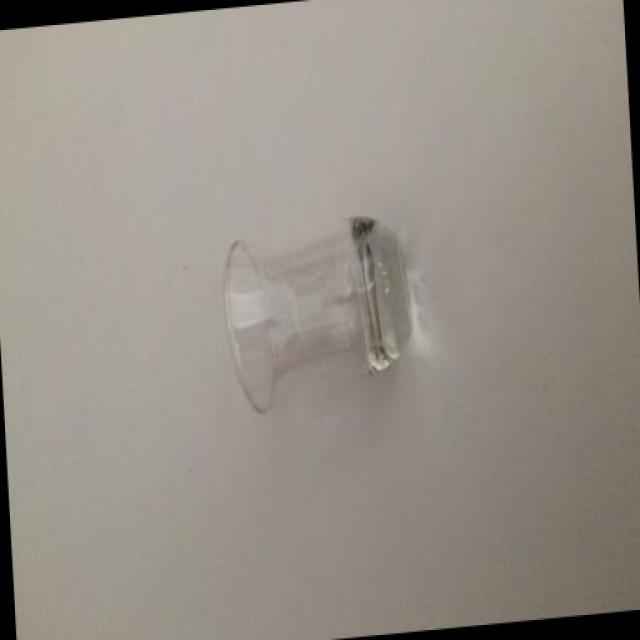vidrio: (201, 179, 427, 492)
